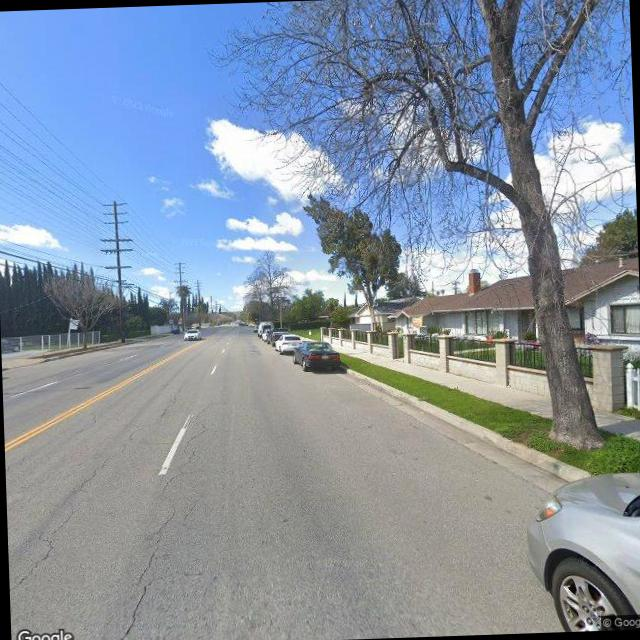pothole: (10, 407, 157, 589), (110, 409, 215, 640)
